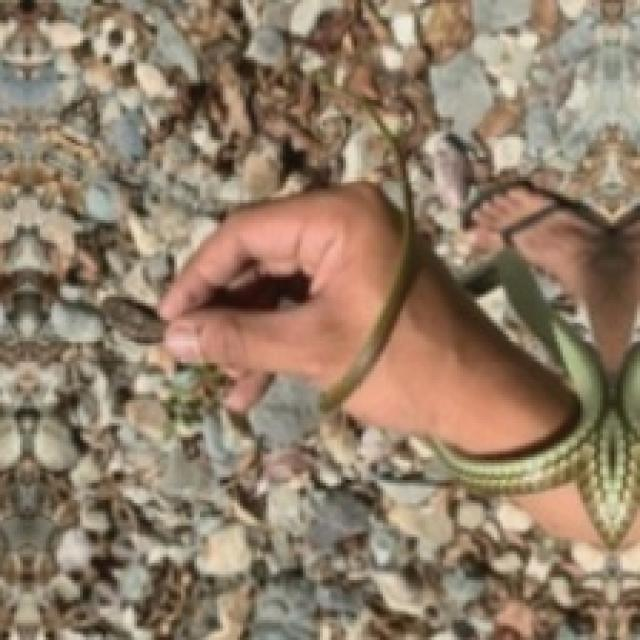philippine bronzeback treesnake: (431, 249, 640, 548), (320, 111, 420, 411)
